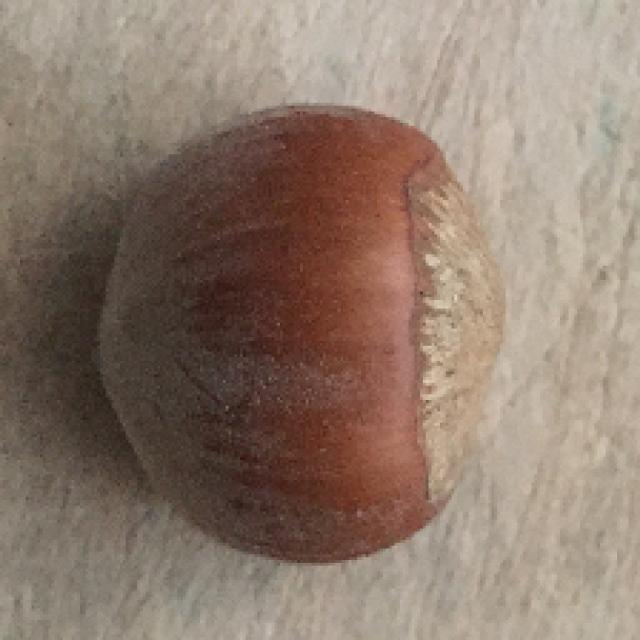qualityHazelnut: (94, 108, 510, 563)
